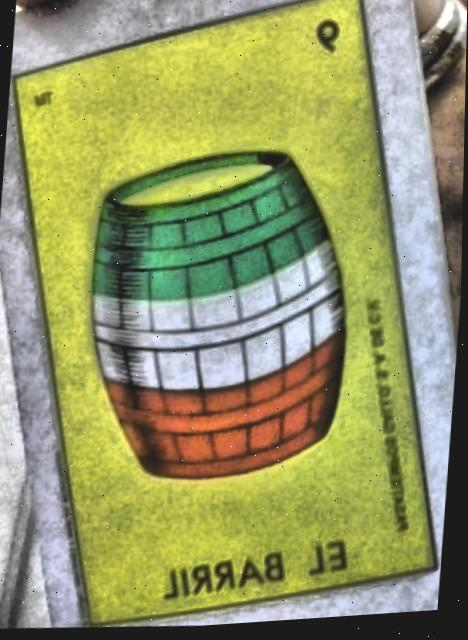El Barril: (13, 0, 435, 625)
